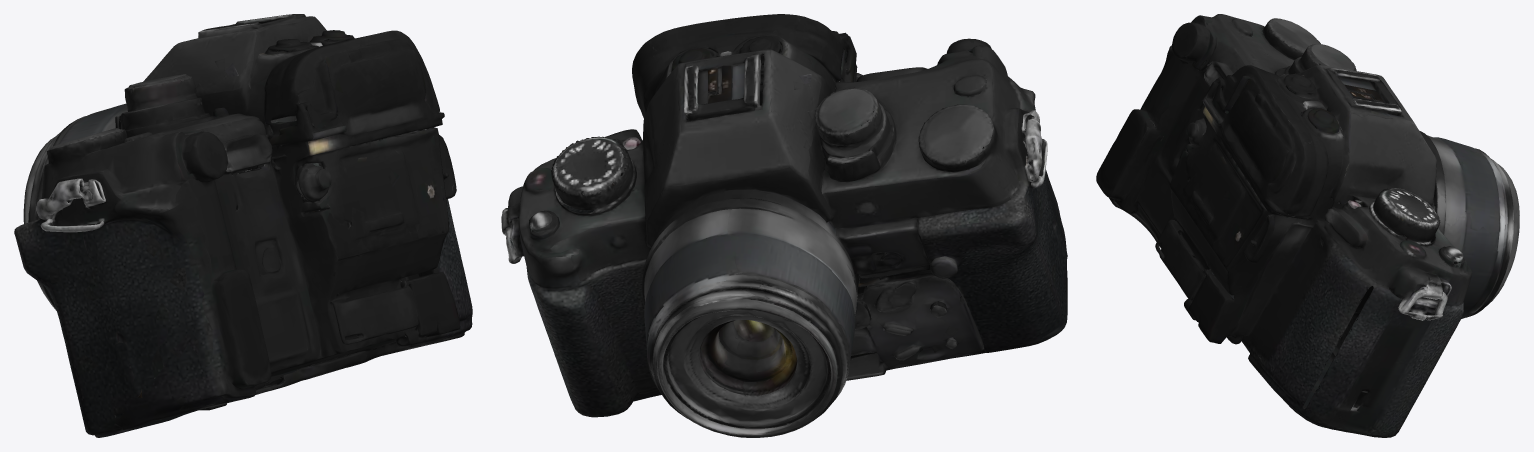
The model's file is pixal3d.glb.
3 views of the same model, side by side, from view 1: azimuth 30°, elevation 25°; view 2: azimuth 150°, elevation 25°; view 3: azimuth 270°, elevation 25° (orthographic). The views are drawn at different scales.
Visible parts, largest first — view 1: world; view 2: world; view 3: world.
Boxes of the visible parts, bbox=[...] form: world: bbox=[14, 14, 472, 437]; world: bbox=[501, 14, 1067, 437]; world: bbox=[1096, 14, 1519, 437].
Bounding box in the file's own units: 0.8988 × 0.702 × 0.8574.
Materials: 1 (1 with a texture image).
